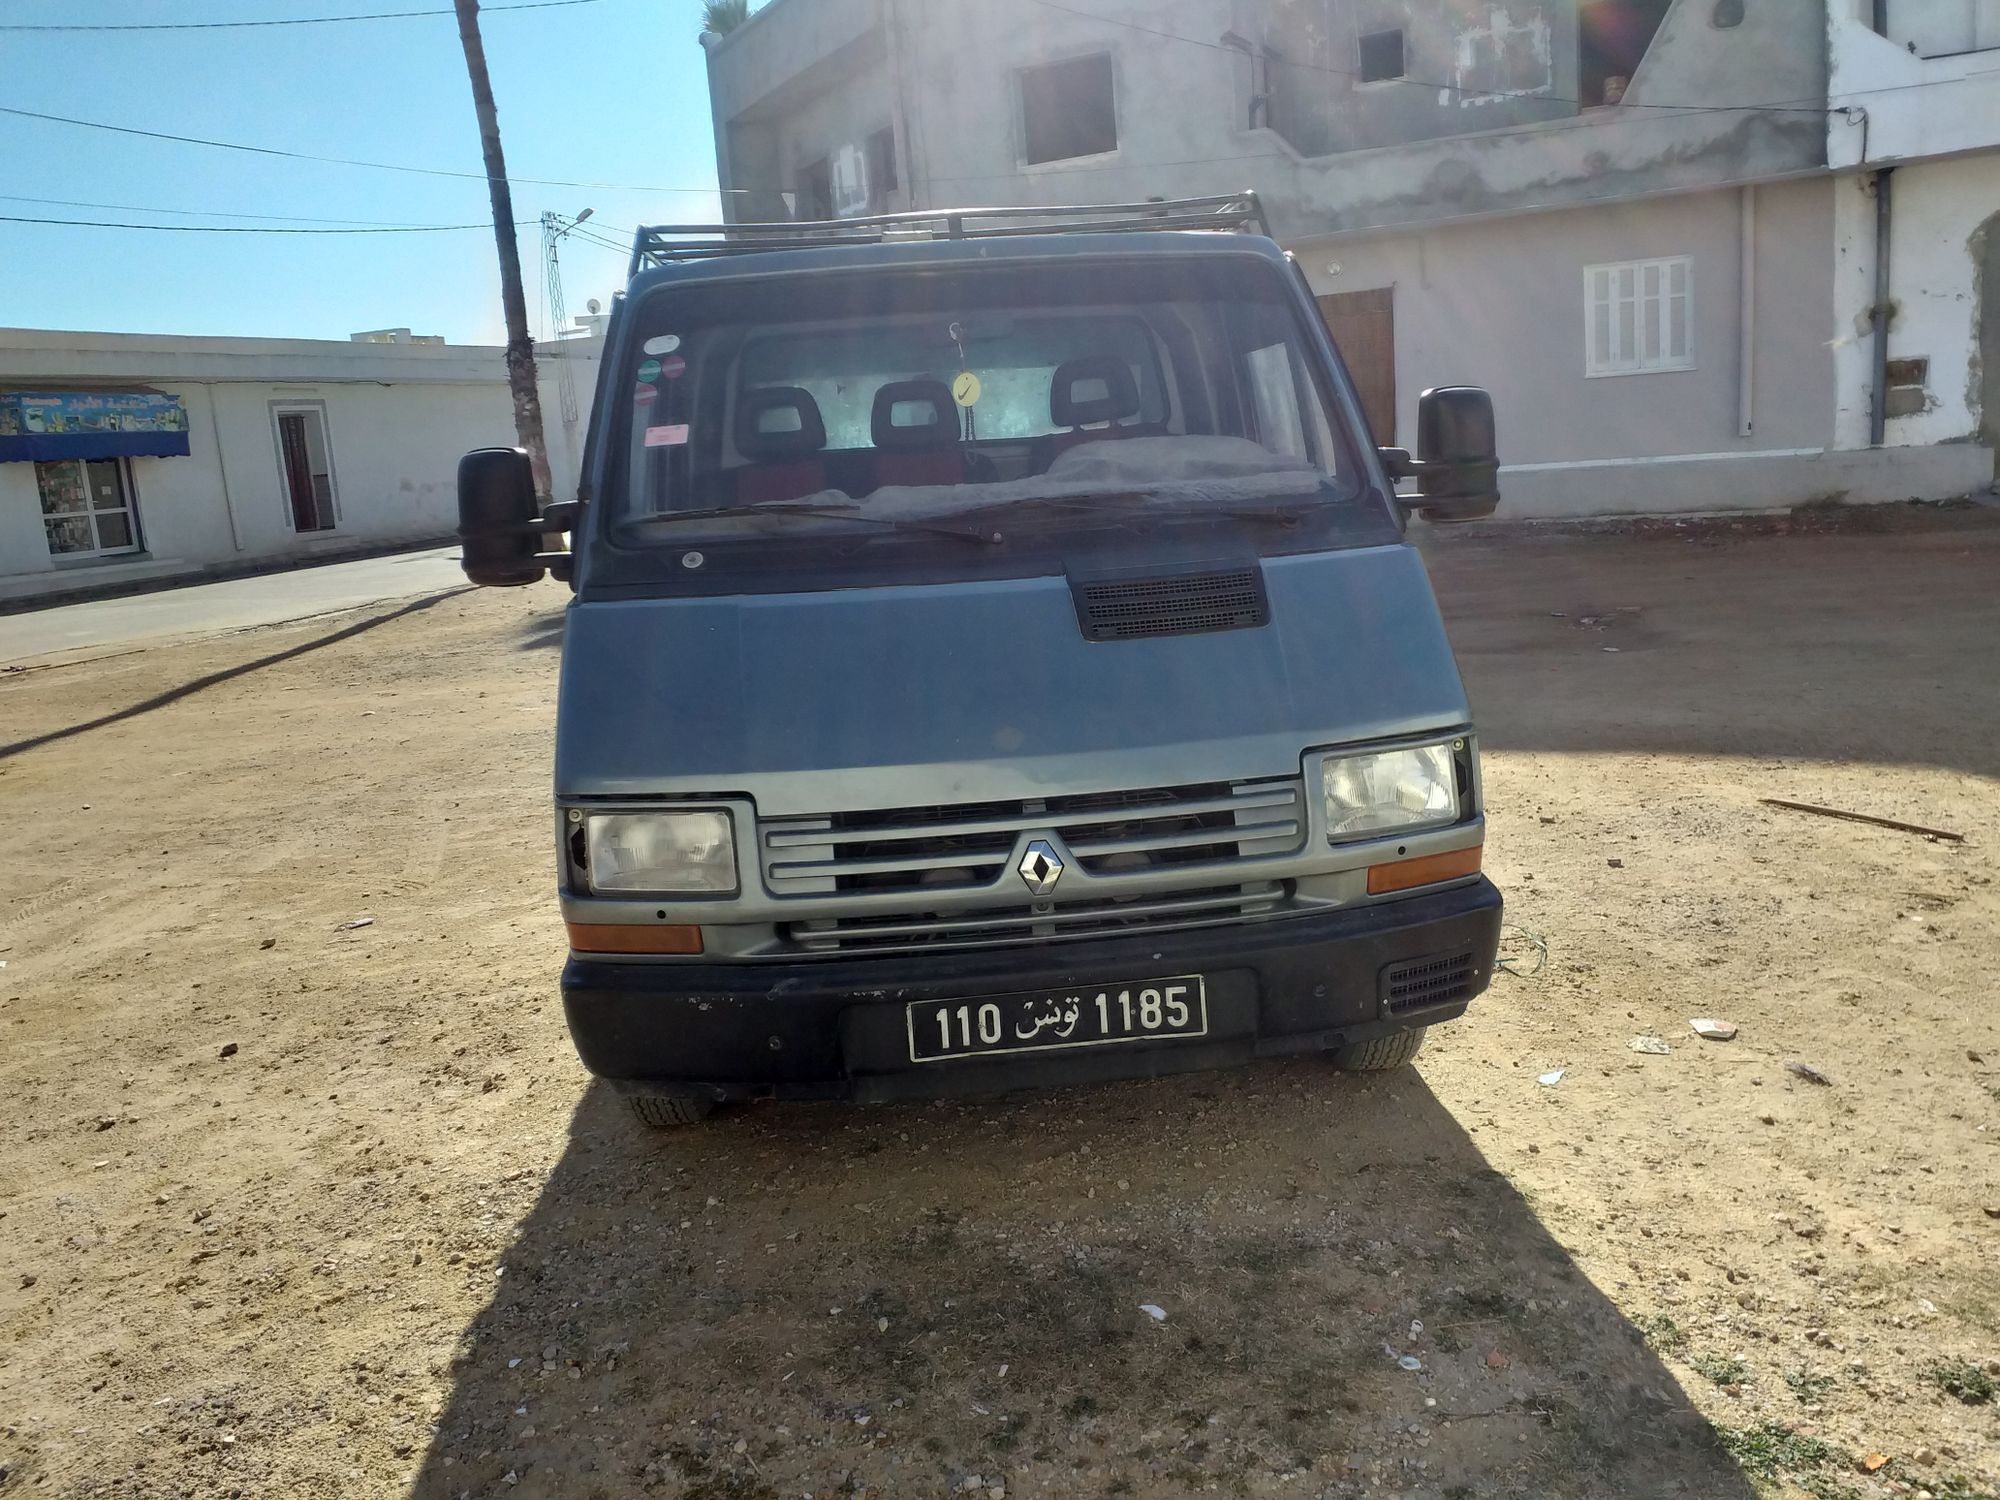LP: (900, 965, 1216, 1065)
